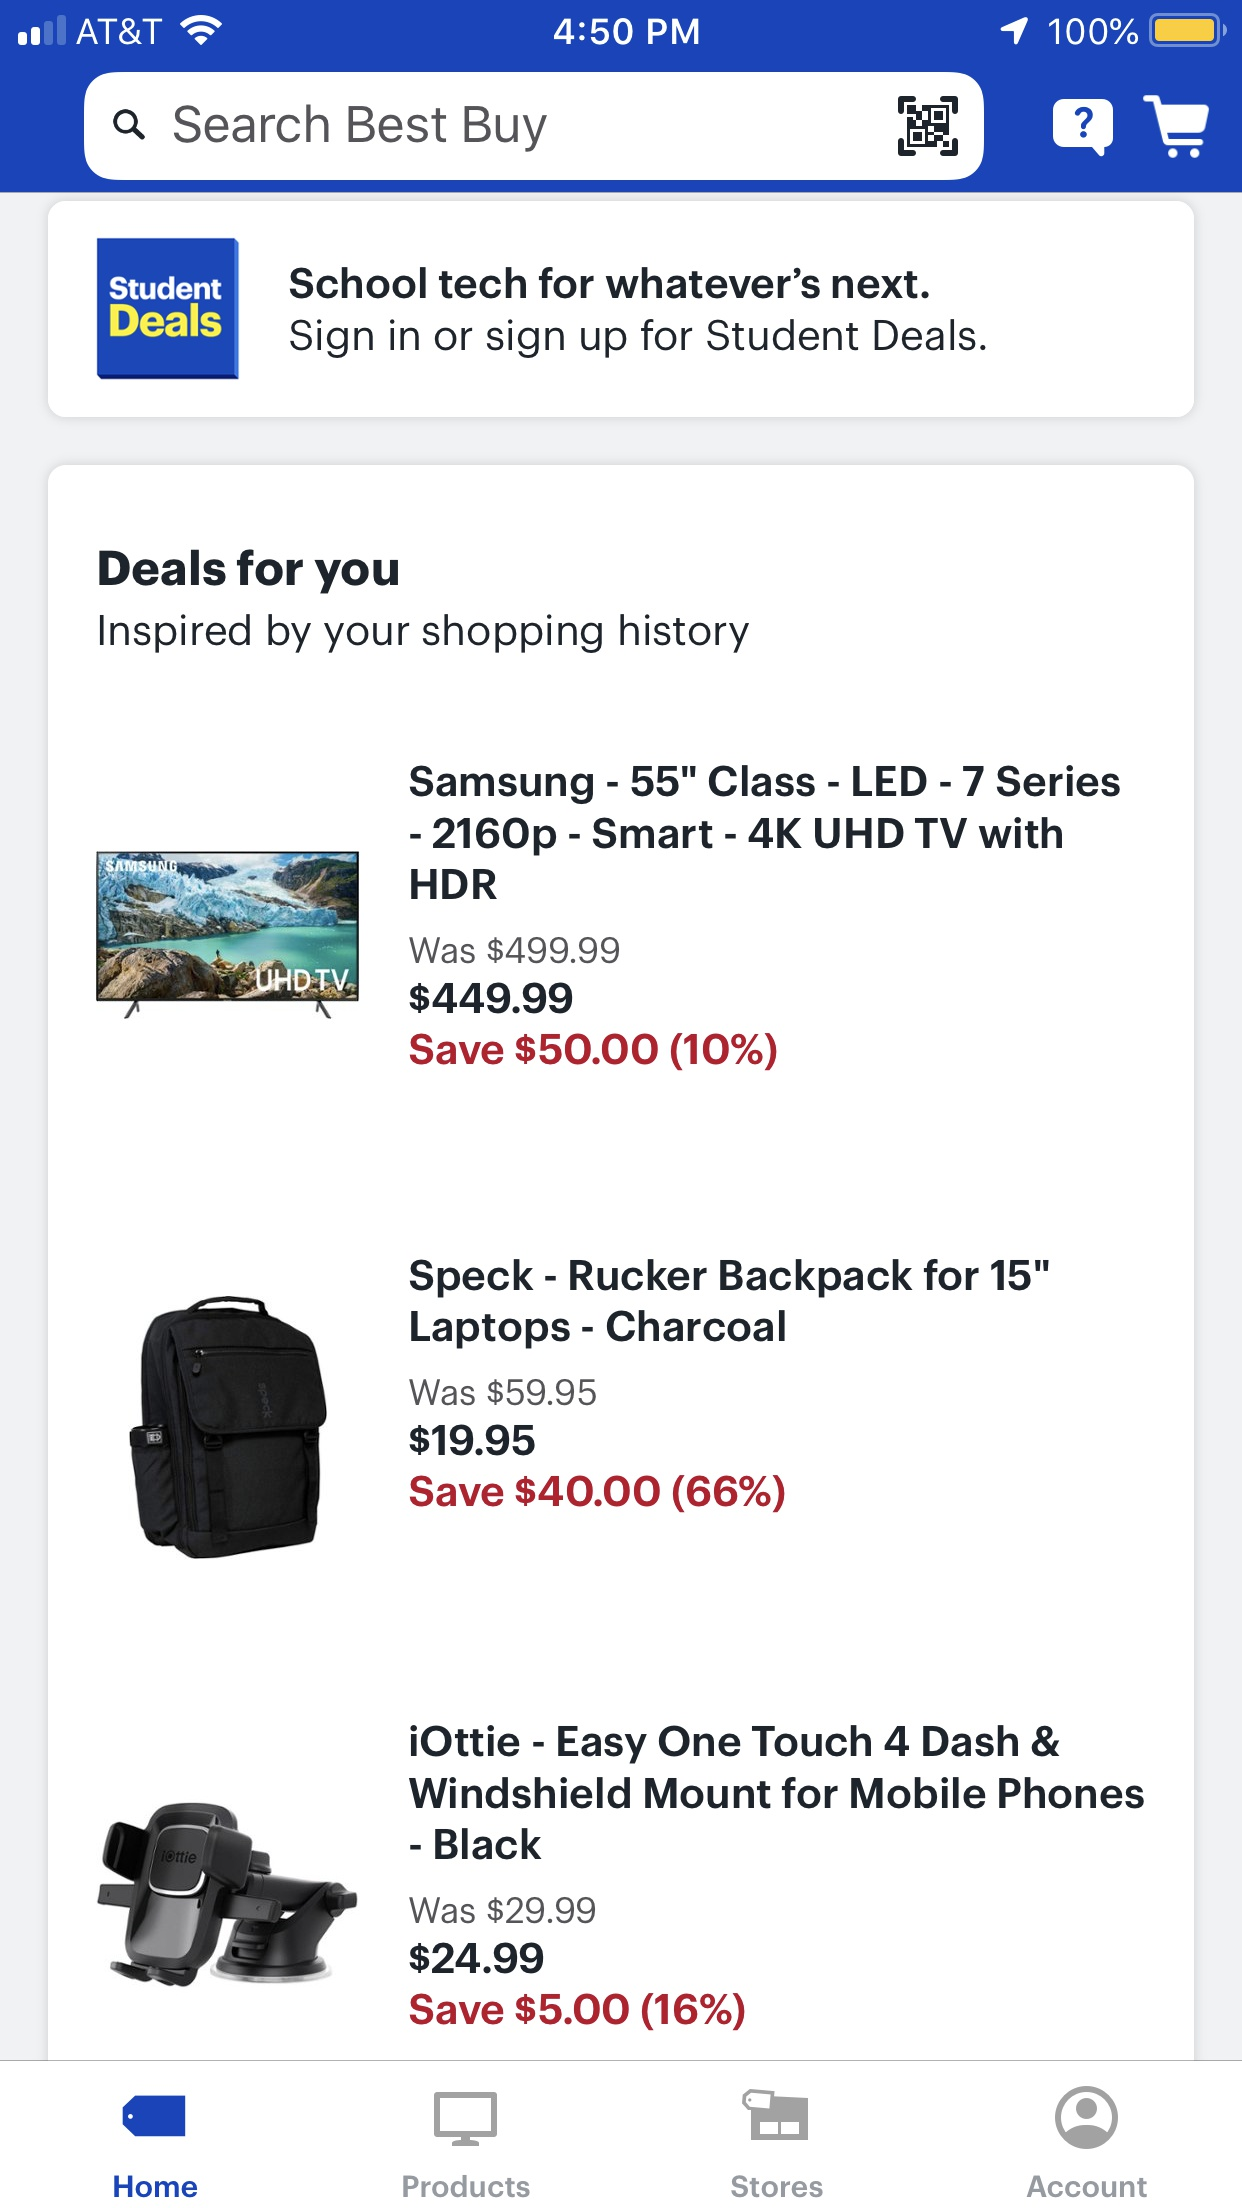EditText: (83, 73, 986, 180)
Icon: (1054, 2085, 1119, 2150), (1143, 96, 1210, 159), (1052, 99, 1115, 158), (121, 2094, 187, 2137), (114, 111, 146, 141)
Image: (129, 1295, 328, 1560), (97, 1802, 359, 1988), (96, 851, 359, 1021), (99, 240, 240, 381), (898, 97, 958, 158), (742, 2088, 808, 2141), (434, 2093, 497, 2147)
Text: (409, 1724, 1145, 1861), (409, 764, 1121, 899), (290, 267, 987, 359), (409, 1259, 1049, 1350), (99, 613, 751, 654), (174, 105, 547, 153), (409, 1474, 786, 1513), (409, 1033, 778, 1072), (99, 549, 400, 596), (409, 1993, 746, 2031), (409, 936, 622, 964), (408, 1378, 597, 1407), (408, 1896, 596, 1924), (409, 983, 575, 1015), (409, 1943, 544, 1974), (409, 1424, 535, 1457), (402, 2173, 531, 2197), (1027, 2175, 1148, 2197), (731, 2175, 823, 2197), (114, 2175, 199, 2197)
UpperTaskBar: (2, 2, 1242, 49)
